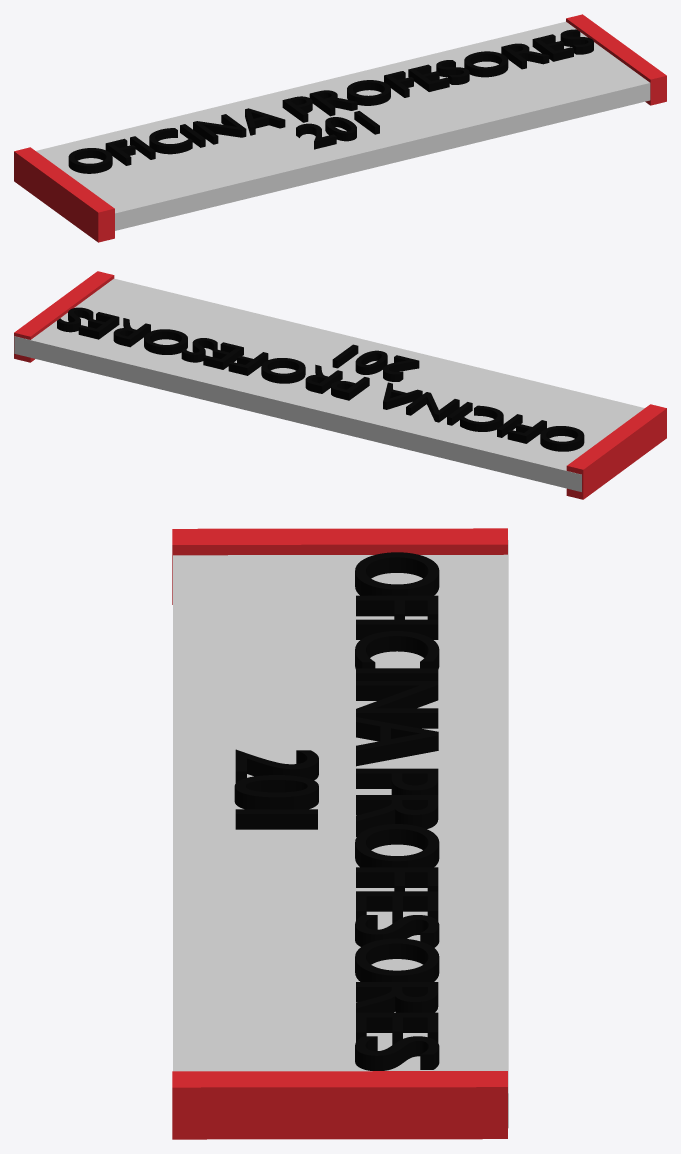
The model's file is OficinaProfesores A.fbx.
3 views of the same model, one above another, from view 1: azimuth 30°, elevation 25°; view 2: azimuth 150°, elevation 25°; view 3: azimuth 270°, elevation 25° (orthographic). The views are drawn at different scales.
Visible parts, largest first — view 1: Cube, Texto.001, Cubo, Cubo.001; view 2: Cube, Texto.001, Cubo, Cubo.001; view 3: Cube, Texto.001, Cubo.001, Cubo.
Boxes of the visible parts, <box> form: Cube: <box>36,21,650,230</box>; Texto.001: <box>68,29,593,173</box>; Cubo: <box>14,147,114,242</box>; Cubo.001: <box>566,14,666,105</box>; Cube: <box>14,278,644,491</box>; Texto.001: <box>57,307,584,451</box>; Cubo: <box>566,404,666,499</box>; Cubo.001: <box>14,271,114,362</box>; Cube: <box>173,540,508,1128</box>; Texto.001: <box>234,552,439,1070</box>; Cubo.001: <box>172,1071,507,1139</box>; Cubo: <box>172,528,507,604</box>.
Size of the model in its own units: 783 by 42.9 by 200.
